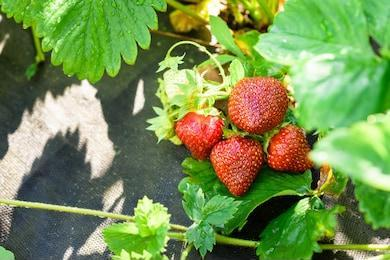Fresa: (223, 70, 292, 137), (202, 132, 269, 200), (260, 117, 320, 177), (171, 103, 228, 165)
